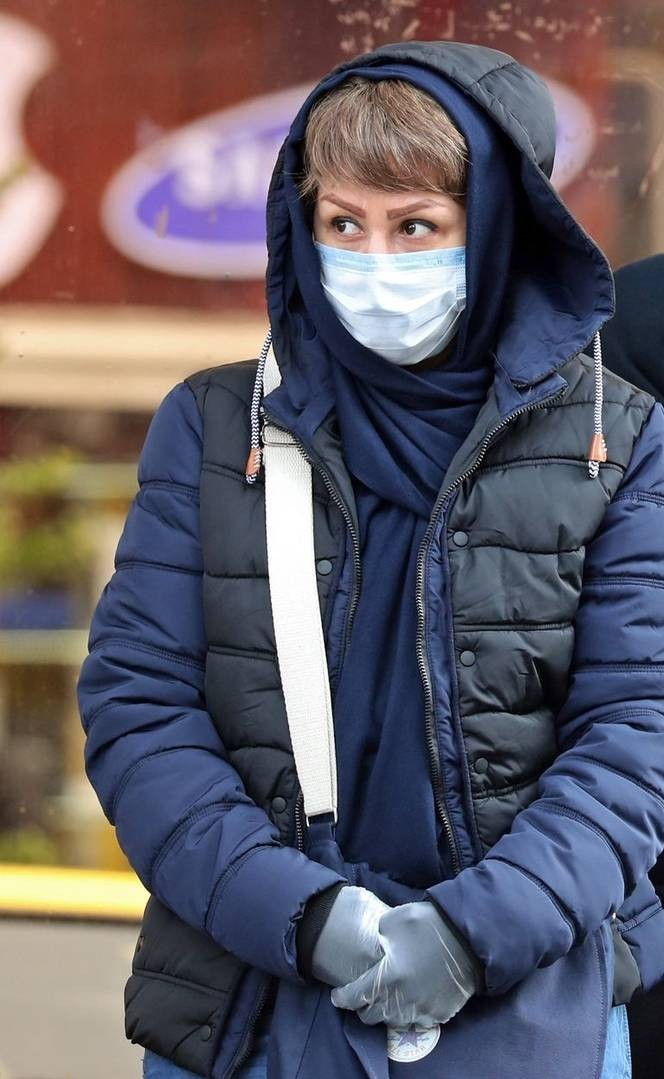with_mask: (278, 70, 539, 363)
